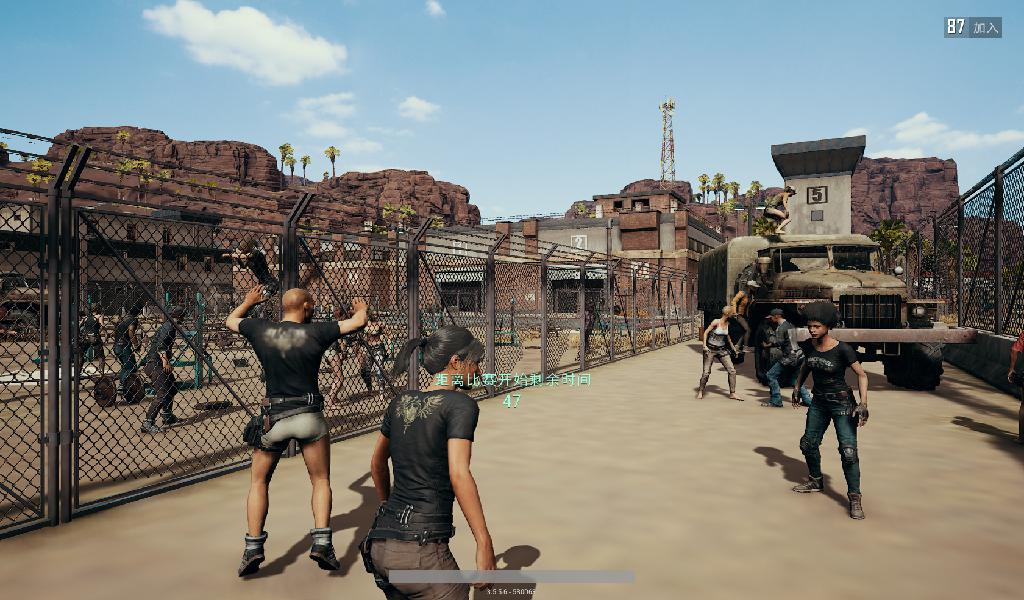Target Person: (223, 282, 369, 581), (369, 325, 495, 600), (788, 296, 869, 524), (142, 306, 191, 433), (761, 308, 815, 410), (697, 305, 742, 402), (108, 308, 144, 398), (74, 299, 112, 382), (729, 280, 761, 358), (763, 184, 797, 236)
